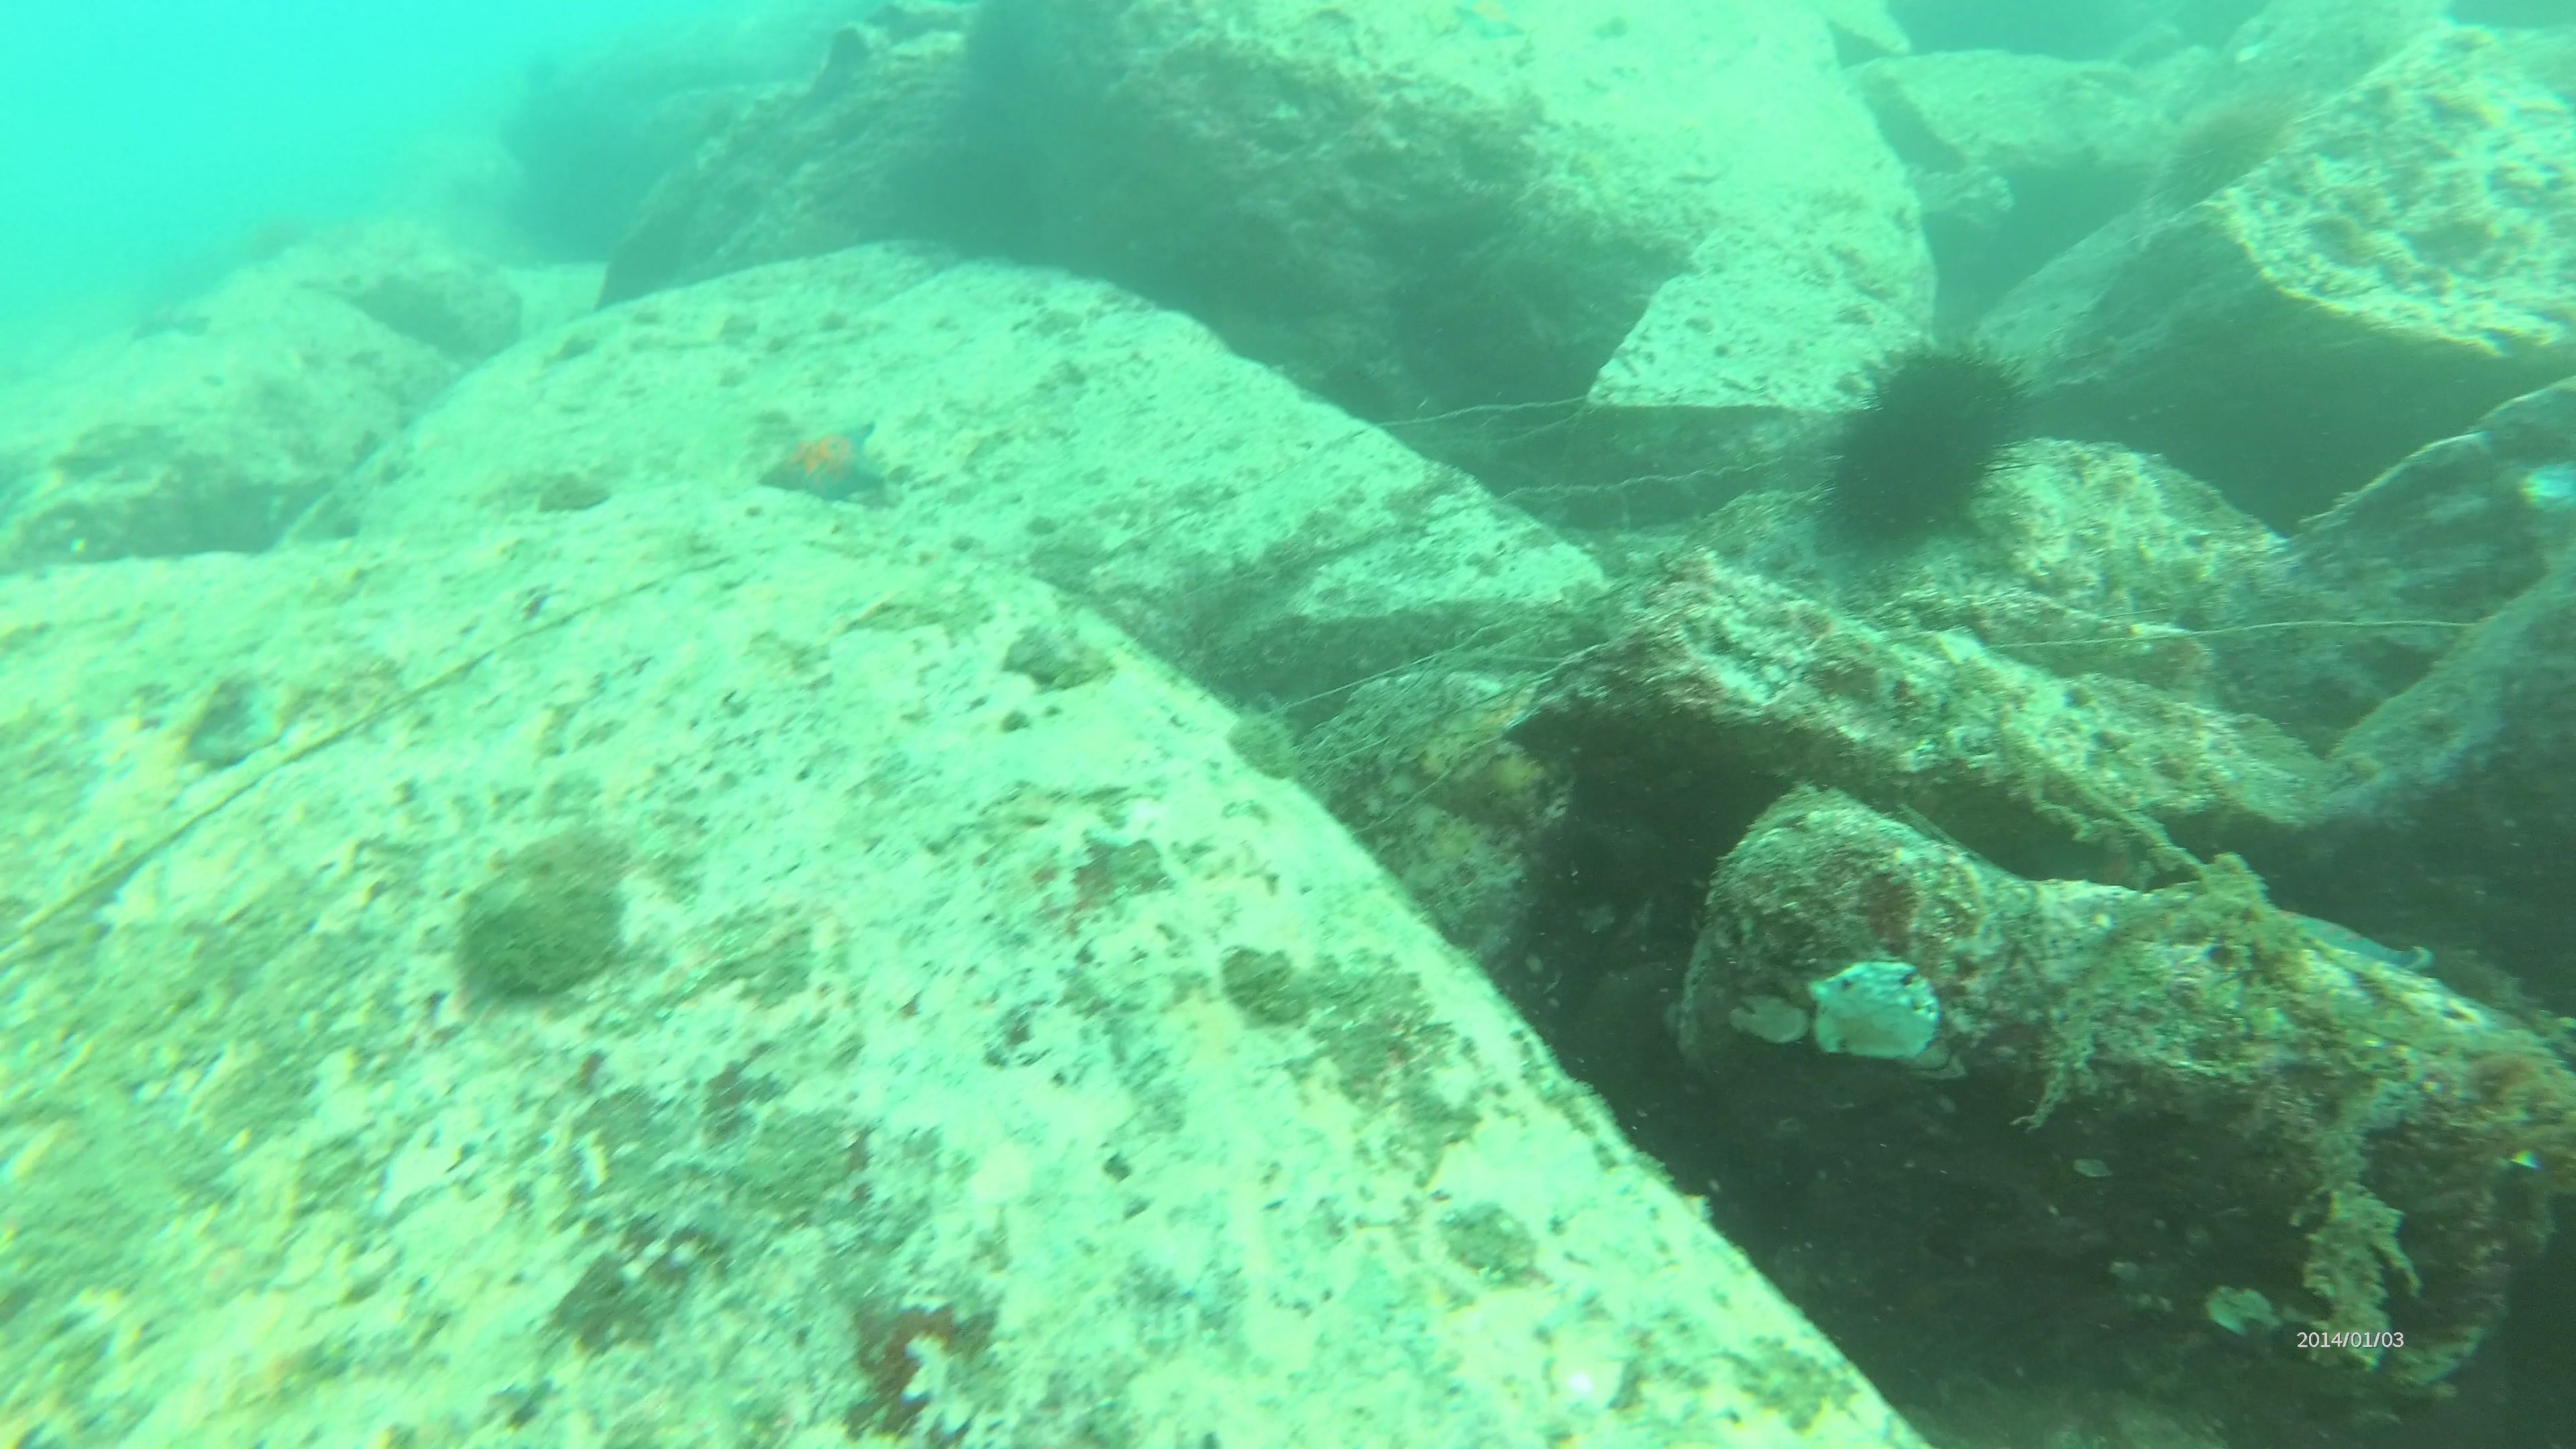echinus: (1805, 333, 2036, 557)
starfish: (750, 409, 897, 511)
